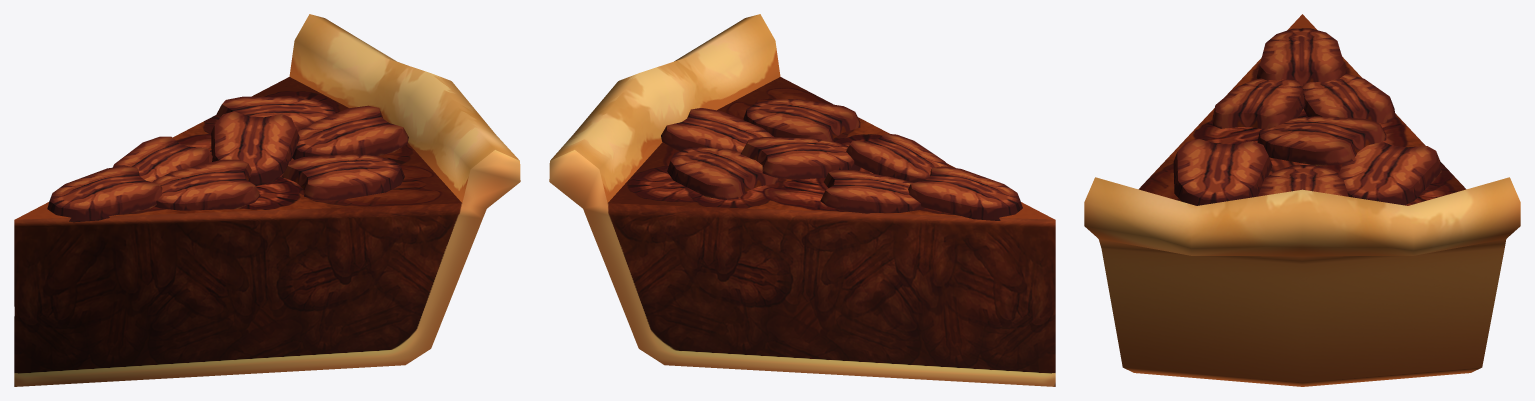
The model's file is Pie_Pecan.fbx.
3 renders of one model, left to right at view 1: azimuth 30°, elevation 25°; view 2: azimuth 150°, elevation 25°; view 3: azimuth 270°, elevation 25°, orthographic. The views are drawn at different scales.
Parts seen in each view (by area): view 1: Pie_Pecan; view 2: Pie_Pecan; view 3: Pie_Pecan.
Part boxes in pixels (x1,y1,x2,y2): Pie_Pecan: (14,14,520,386); Pie_Pecan: (549,14,1055,386); Pie_Pecan: (1084,14,1520,386).
Bounding box in the file's own units: 47.82 × 22.22 × 36.97.
